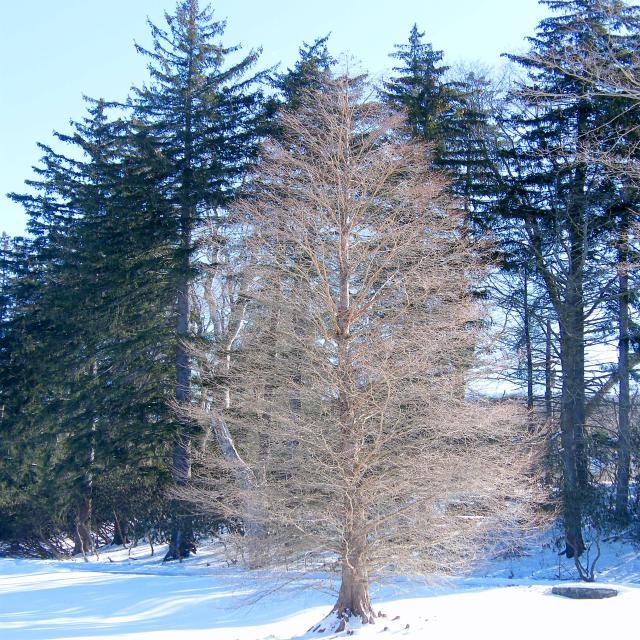Christmas-tree: (196, 53, 541, 580)
